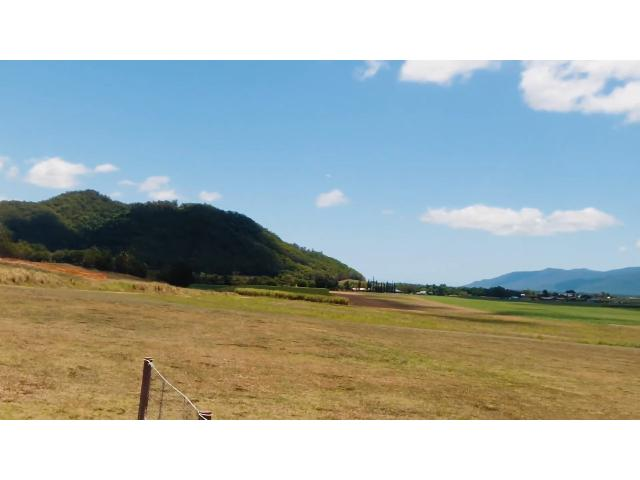Anti-Drone: (319, 170, 339, 182)
